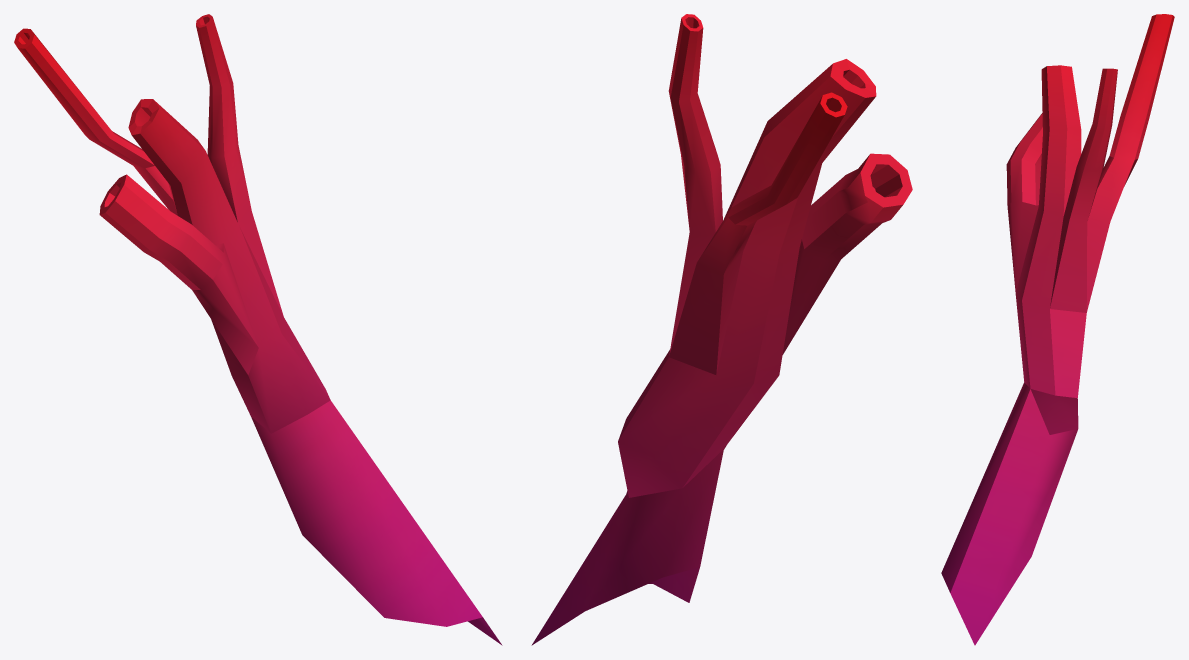
The model's file is coral_mini1.fbx.
3 views of the same model, side by side, from view 1: azimuth 30°, elevation 25°; view 2: azimuth 150°, elevation 25°; view 3: azimuth 270°, elevation 25° (orthographic). The views are drawn at different scales.
Visible parts, largest first — view 1: coral_mini1; view 2: coral_mini1; view 3: coral_mini1.
Boxes of the visible parts, box(x1,y1,x2,y2) form: coral_mini1: box(14, 14, 502, 645); coral_mini1: box(531, 14, 912, 645); coral_mini1: box(941, 14, 1174, 645).
Size of the model in its own units: 0.00678 by 0.0109 by 0.00464.
Materials: 1 (1 with a texture image).
